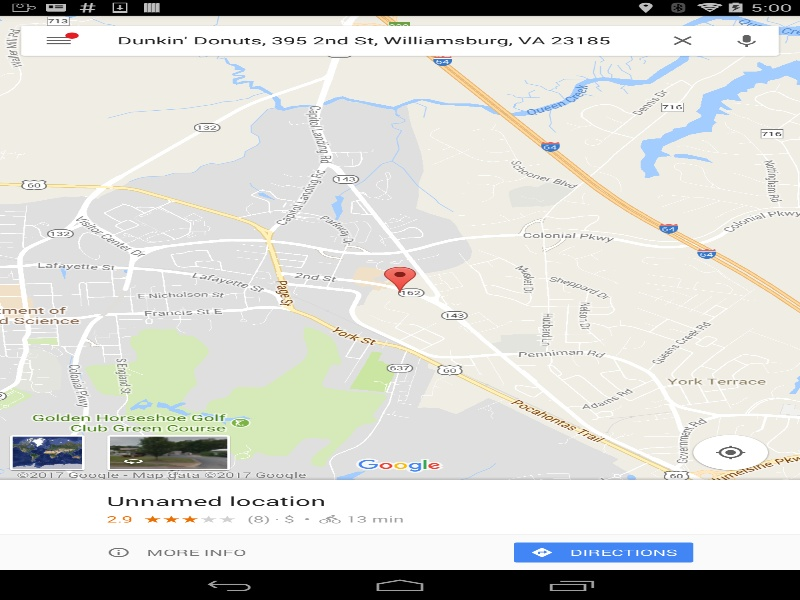Button: (12, 436, 82, 469), (714, 25, 778, 55)
Input: (117, 25, 666, 55)
